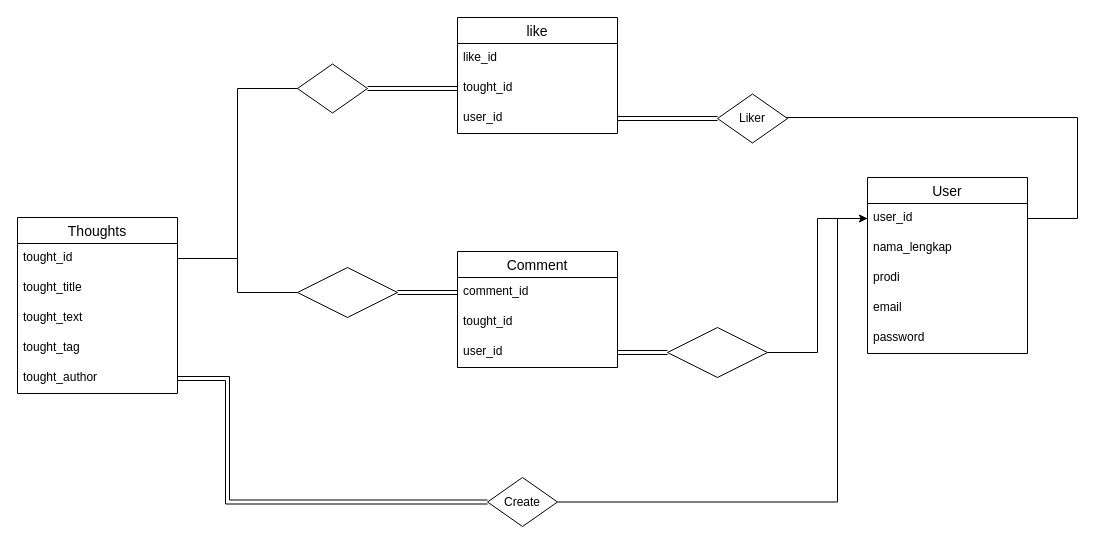
This 1096x544 diagram has some shape labels left out. The centre of each missing label's shape, as x and y in pixels:
"Commented" goes at point (347, 292).
"Commenter" goes at point (717, 352).
"Liked" goes at point (332, 88).
